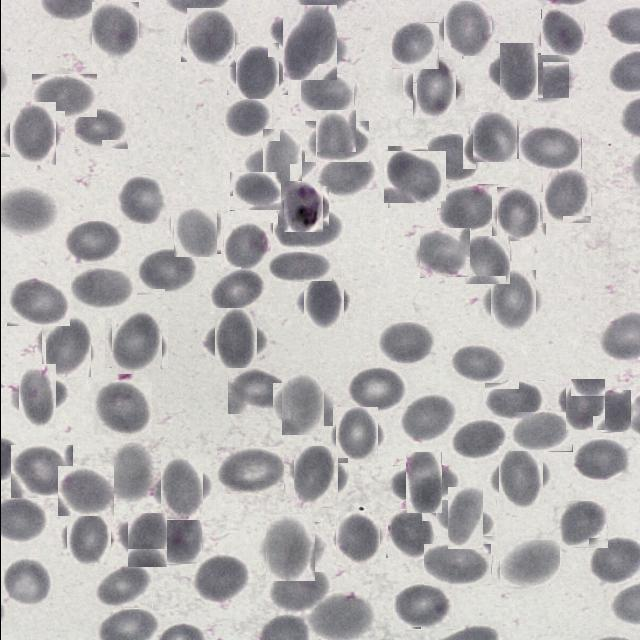red blood cell: (276, 10, 342, 76), (260, 518, 319, 576), (385, 148, 442, 206), (10, 445, 72, 498), (108, 314, 164, 372), (216, 447, 285, 494), (266, 565, 331, 614), (397, 392, 457, 444), (5, 106, 60, 162), (439, 0, 494, 56), (93, 382, 151, 435), (345, 366, 408, 414), (6, 278, 69, 326), (254, 136, 308, 192), (436, 184, 498, 232), (38, 319, 92, 374), (207, 314, 262, 368), (485, 274, 540, 328), (192, 554, 251, 604), (518, 126, 582, 172), (227, 368, 291, 414), (499, 540, 560, 588), (492, 451, 546, 505), (183, 11, 237, 65), (136, 249, 199, 295), (288, 450, 341, 504), (88, 5, 142, 58), (423, 544, 491, 586), (57, 466, 113, 516), (31, 74, 96, 117), (392, 584, 452, 630), (309, 116, 362, 168), (276, 378, 328, 431), (70, 267, 134, 310), (230, 47, 282, 99), (407, 62, 459, 114), (540, 170, 592, 222), (155, 463, 207, 515), (209, 268, 267, 314), (376, 322, 436, 366), (316, 152, 376, 196), (1, 555, 52, 606), (64, 221, 123, 265), (572, 439, 632, 482), (484, 380, 545, 422), (94, 565, 152, 609), (12, 371, 62, 422), (419, 228, 470, 278), (588, 538, 640, 587), (221, 222, 271, 272), (330, 410, 380, 460), (398, 458, 448, 508), (114, 175, 165, 224), (510, 412, 572, 452), (386, 509, 436, 558), (333, 514, 382, 563), (440, 493, 489, 542), (298, 278, 348, 326), (62, 514, 112, 562), (556, 501, 607, 548), (493, 190, 542, 238), (427, 134, 476, 182), (449, 419, 506, 460), (113, 442, 153, 500), (470, 112, 518, 160), (494, 48, 542, 96), (275, 212, 338, 248), (123, 516, 170, 564), (71, 109, 127, 149), (449, 345, 506, 384), (538, 9, 585, 56), (392, 22, 438, 70), (172, 208, 218, 255), (300, 74, 354, 114), (521, 55, 569, 99), (464, 237, 509, 283), (229, 172, 281, 211), (156, 518, 200, 564), (562, 382, 606, 428), (266, 252, 332, 282), (222, 99, 272, 138), (592, 390, 630, 432)
trophozoite: (280, 183, 326, 229)
